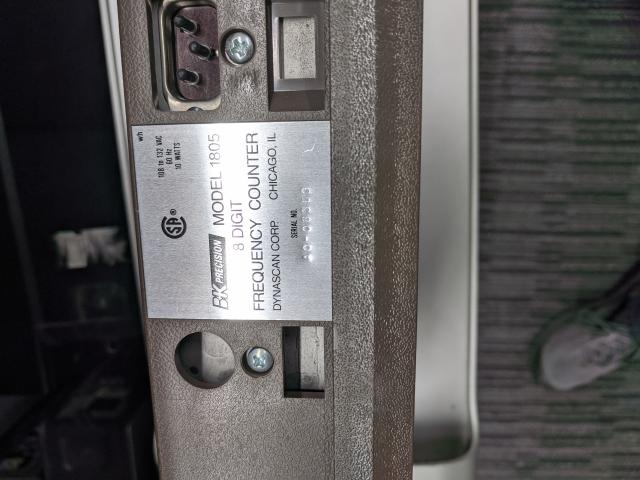CRS: (219, 27, 255, 66), (244, 344, 276, 374)
